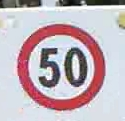limite 50: (14, 21, 105, 112)
